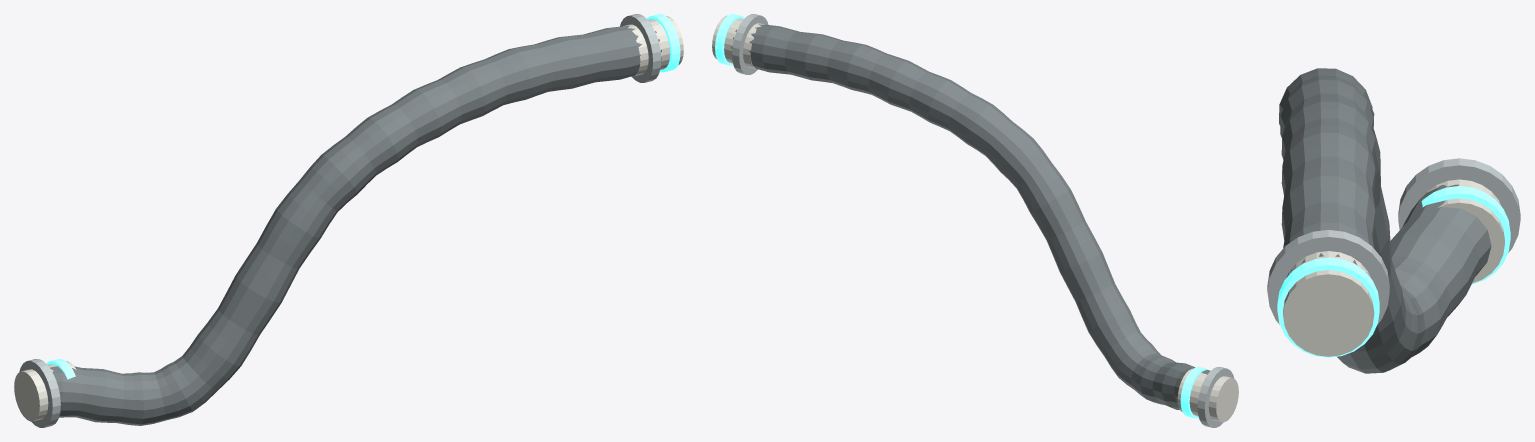
File: s7-i03-hose-offset-step.glb
3 views of the same model, side by side, from view 1: azimuth 30°, elevation 25°; view 2: azimuth 150°, elevation 25°; view 3: azimuth 270°, elevation 25° (orthographic). The views are drawn at different scales.
Visible parts, largest first — view 1: 000_actual_curved_hose_swept_3d, 001_end_0_sealing_socket, 006_end_1_locking_collar, 003_end_0_locking_collar, 004_end_1_sealing_socket, 005_end_1_cyan_snap_seal; view 2: 000_actual_curved_hose_swept_3d, 001_end_0_sealing_socket, 006_end_1_locking_collar, 003_end_0_locking_collar, 004_end_1_sealing_socket, 005_end_1_cyan_snap_seal, 002_end_0_cyan_snap_seal; view 3: 000_actual_curved_hose_swept_3d, 004_end_1_sealing_socket, 006_end_1_locking_collar, 003_end_0_locking_collar, 005_end_1_cyan_snap_seal, 001_end_0_sealing_socket, 002_end_0_cyan_snap_seal.
Boxes of the visible parts, x1=… form: 000_actual_curved_hose_swept_3d: x1=50, y1=25, x2=661, y2=425; 001_end_0_sealing_socket: x1=14, y1=361, x2=76, y2=421; 006_end_1_locking_collar: x1=620, y1=14, x2=661, y2=82; 003_end_0_locking_collar: x1=19, y1=359, x2=60, y2=427; 004_end_1_sealing_socket: x1=623, y1=16, x2=683, y2=76; 005_end_1_cyan_snap_seal: x1=647, y1=14, x2=680, y2=72; 000_actual_curved_hose_swept_3d: x1=731, y1=24, x2=1210, y2=409; 001_end_0_sealing_socket: x1=1177, y1=368, x2=1238, y2=422; 006_end_1_locking_collar: x1=732, y1=14, x2=768, y2=74; 003_end_0_locking_collar: x1=1197, y1=367, x2=1234, y2=427; 004_end_1_sealing_socket: x1=712, y1=15, x2=764, y2=69; 005_end_1_cyan_snap_seal: x1=715, y1=14, x2=744, y2=65; 002_end_0_cyan_snap_seal: x1=1180, y1=367, x2=1208, y2=418; 000_actual_curved_hose_swept_3d: x1=1279, y1=68, x2=1491, y2=373; 004_end_1_sealing_socket: x1=1283, y1=251, x2=1374, y2=356; 006_end_1_locking_collar: x1=1267, y1=230, x2=1389, y2=324; 003_end_0_locking_collar: x1=1398, y1=158, x2=1520, y2=252; 005_end_1_cyan_snap_seal: x1=1277, y1=257, x2=1379, y2=357; 001_end_0_sealing_socket: x1=1424, y1=179, x2=1504, y2=283; 002_end_0_cyan_snap_seal: x1=1421, y1=186, x2=1510, y2=284.
Bounding box in the file's own units: 0.948 × 0.4523 × 0.1935.
